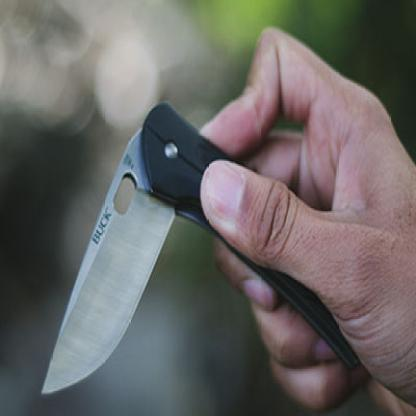knife: (26, 78, 282, 414)
